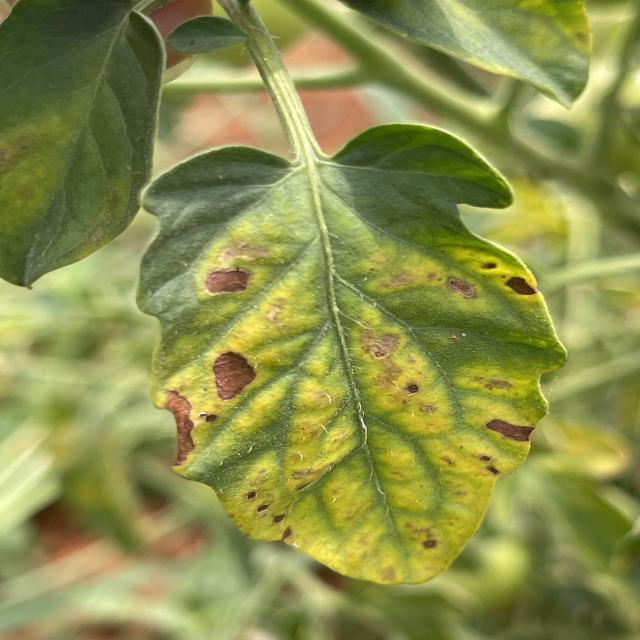tomato_early blight: (134, 116, 570, 588), (5, 0, 165, 285), (335, 0, 598, 105)
